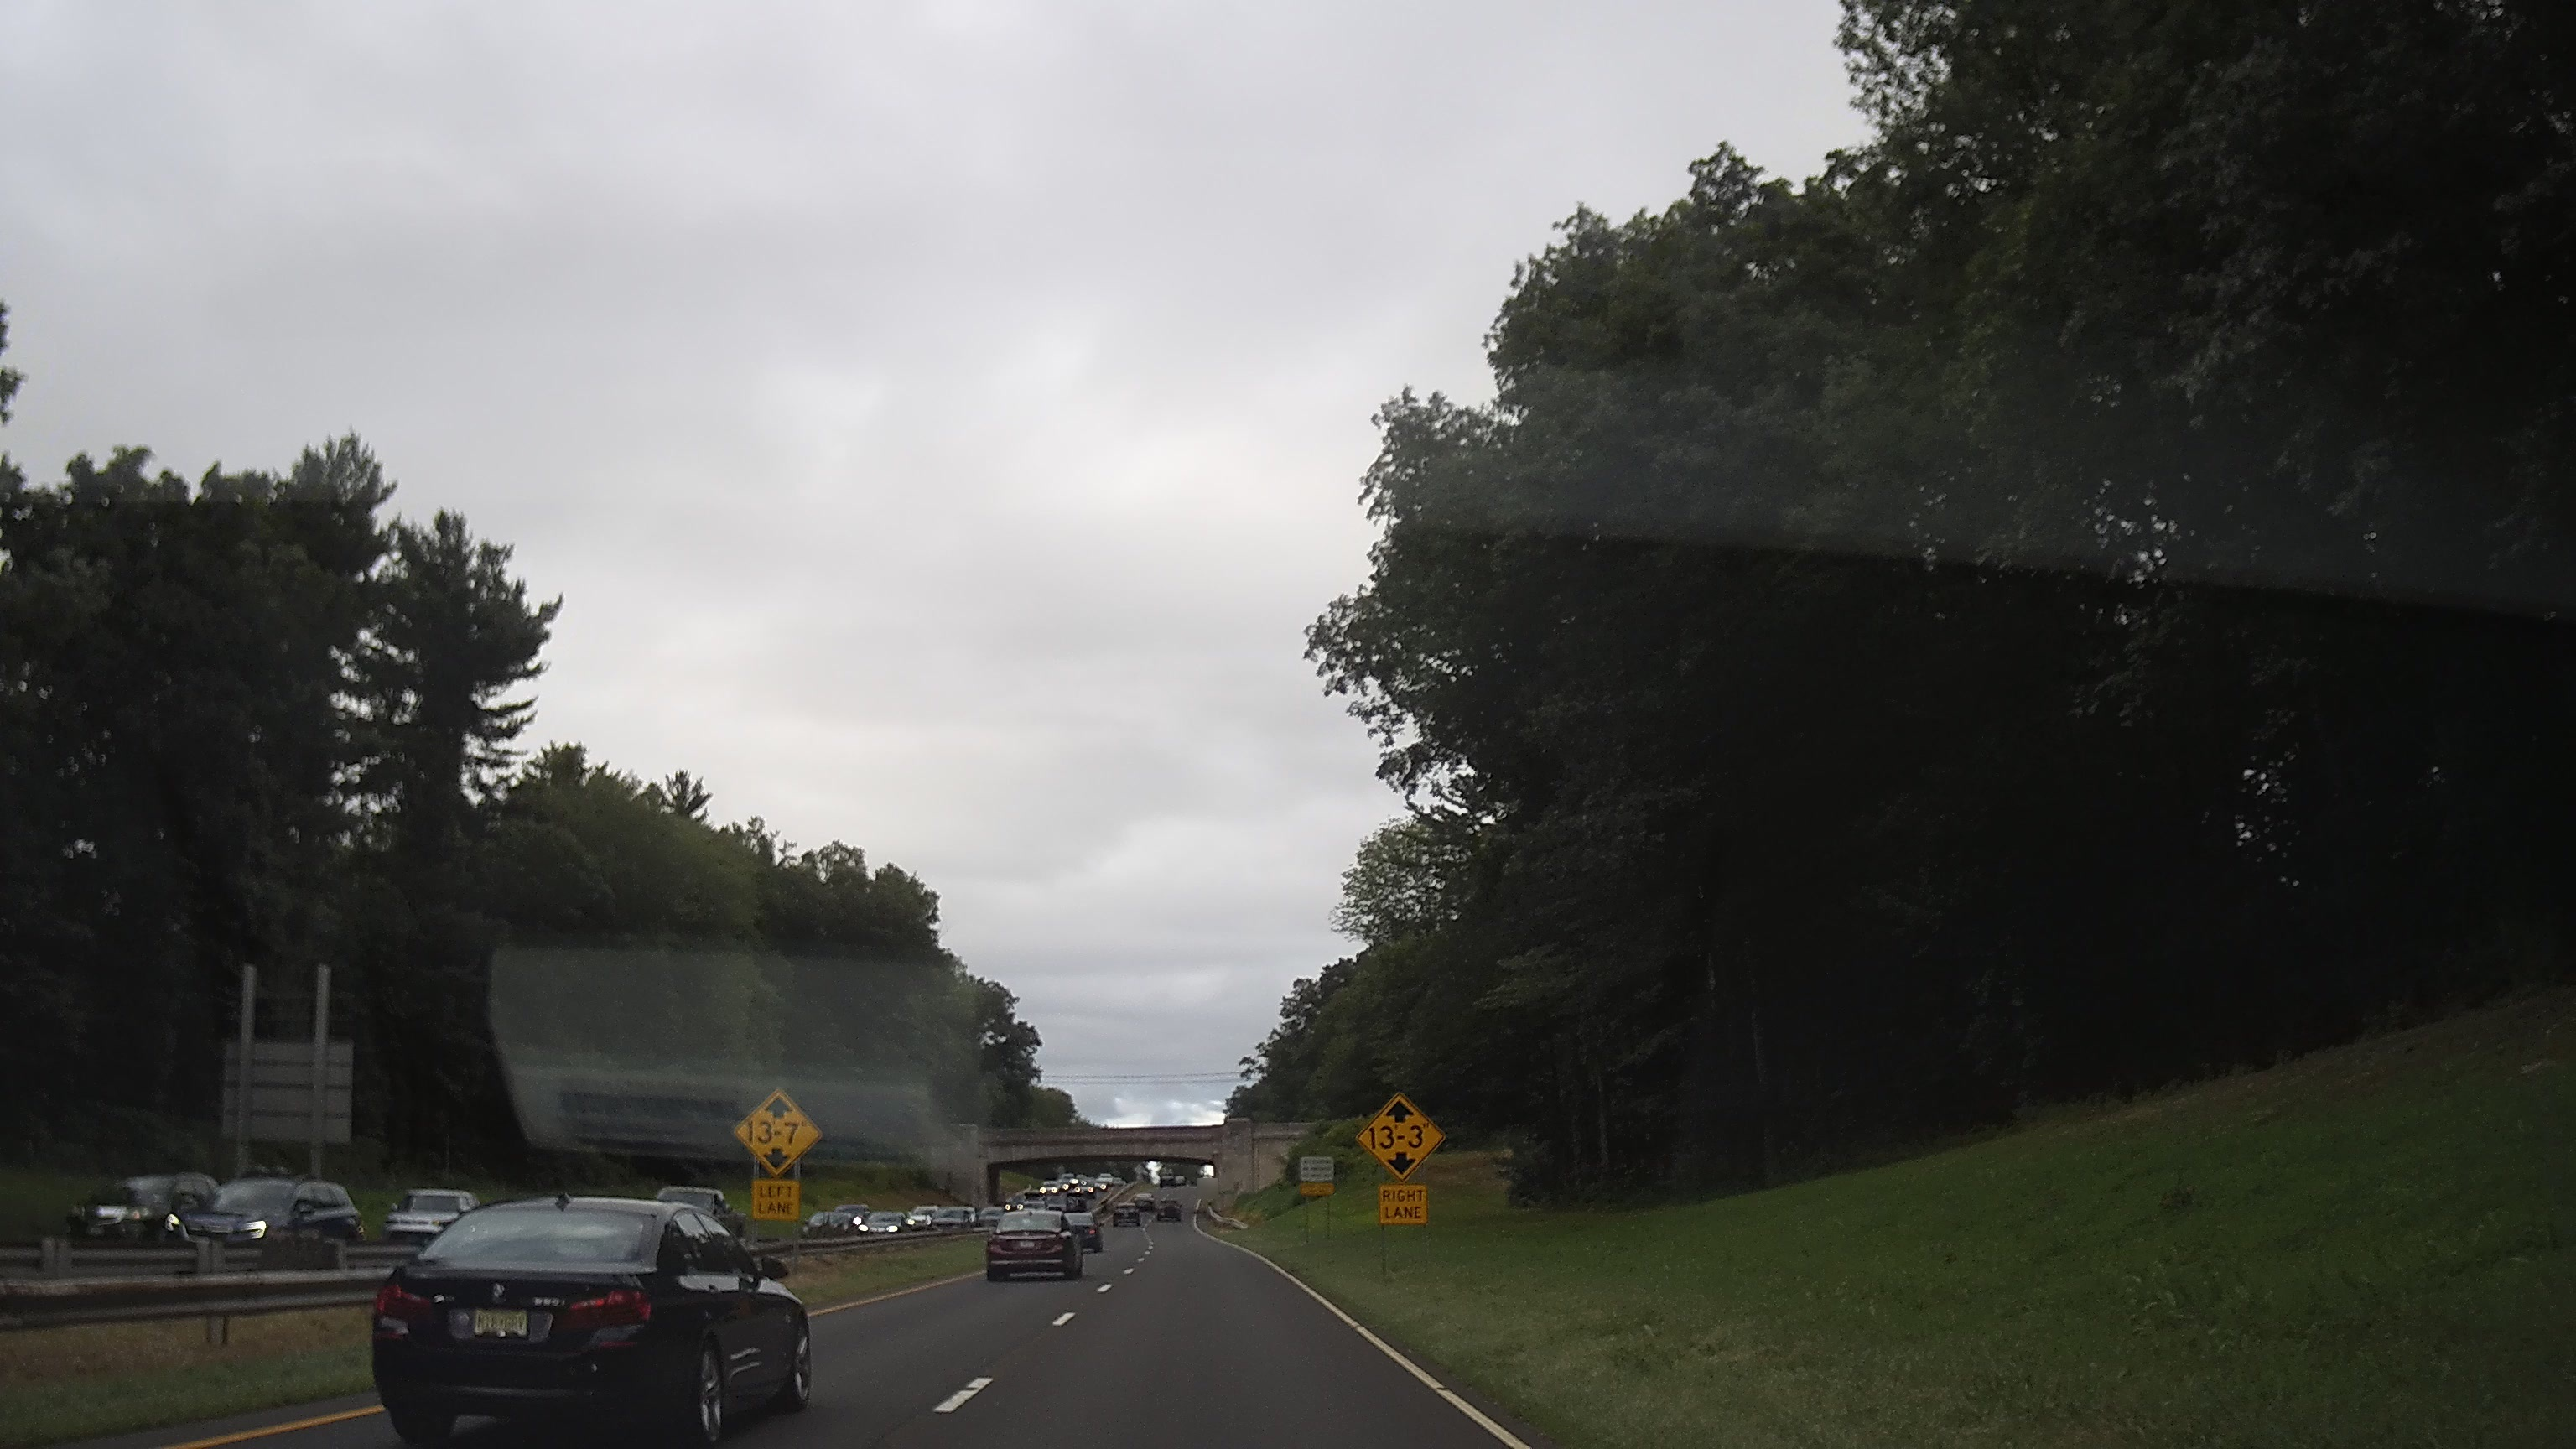low-clearance-sign: (1355, 1092, 1447, 1184), (732, 1086, 823, 1180)
